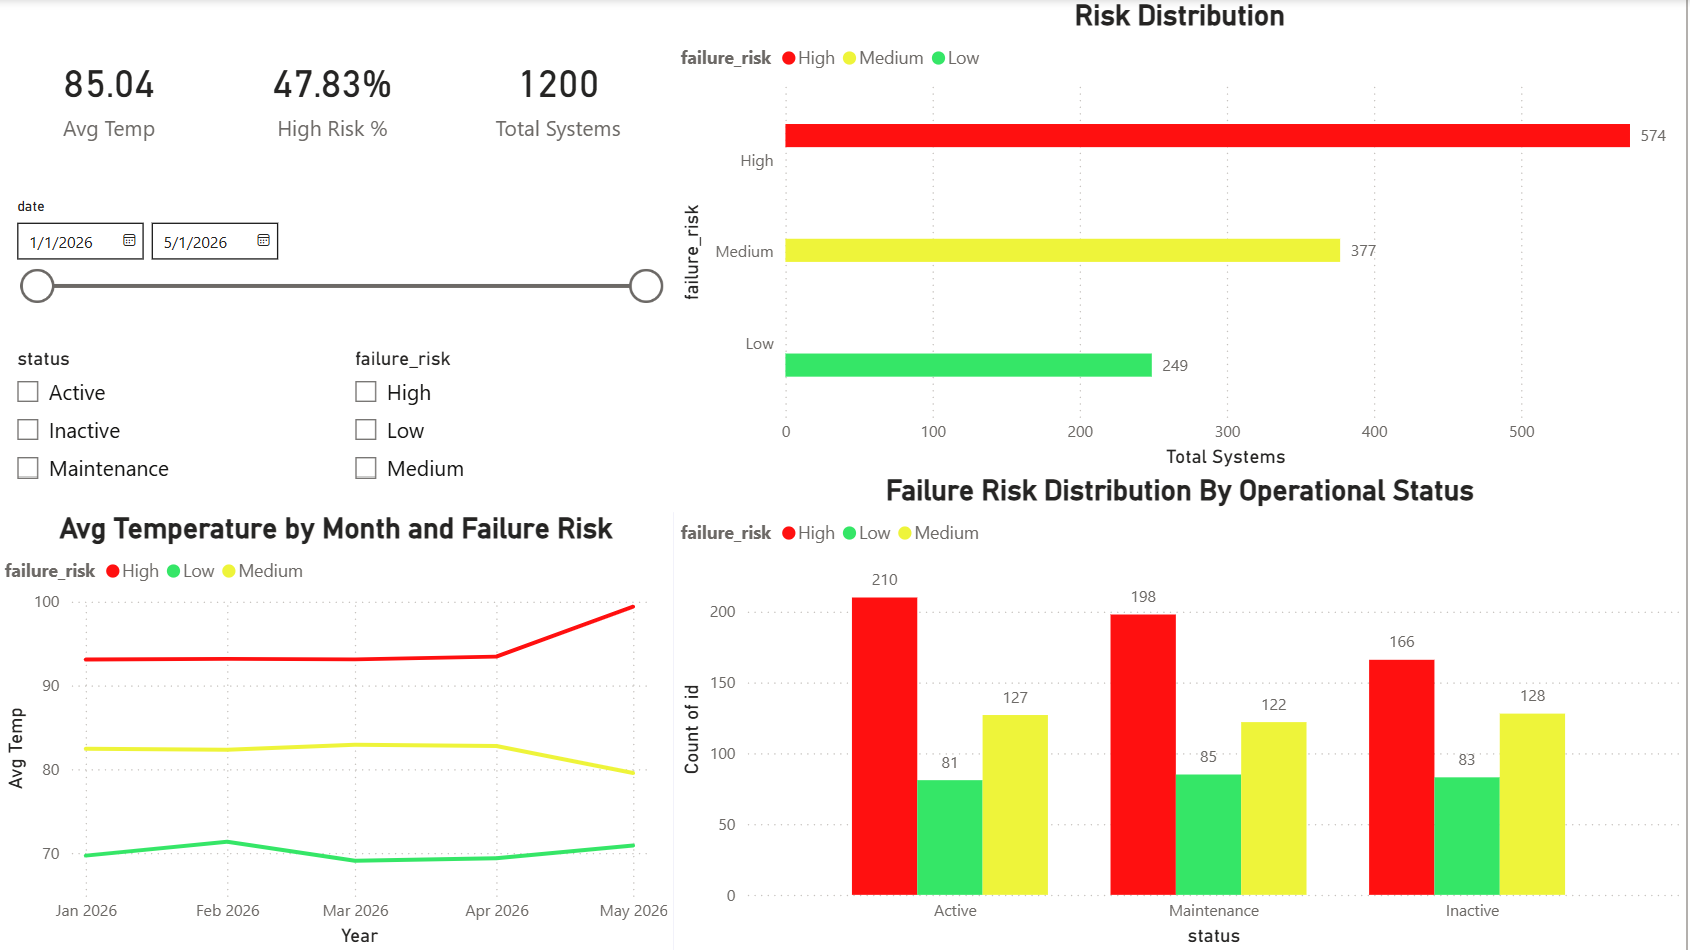

Layout of this report page (visuals, bound fields, positions):
{"tool":"powerbi","page":{"name":"Page 1","canvas":[1280,720],"ordinal":0},"visuals":[{"type":"card","fields":{"Values":["system.Total Systems"]},"box":[337,0,176.1,145.8],"z":0},{"type":"card","fields":{"Values":["system.high_risk_percentage"]},"box":[168.5,0,170.4,145.8],"z":1000},{"type":"card","fields":{"Values":["system.avg_temp"]},"box":[0,0,168.5,145.8],"z":2000},{"type":"clusteredBarChart","title":"Risk Distribution","fields":{"Category":["system.failure_risk"],"Series":["system.failure_risk"],"Y":["system.Total Systems"]},"box":[512.6,0,767.4,359.4],"z":3000},{"type":"lineChart","title":"Avg Temperature by Month and Failure Risk","fields":{"Series":["system.failure_risk"],"Category":["system.date.Variation.Date Hierarchy.Year","system.date.Variation.Date Hierarchy.Month"],"Y":["system.Avg Temp"]},"box":[0,388.2,512.6,333.6],"z":4000},{"type":"clusteredColumnChart","title":"Failure Risk Distribution By Operational Status","fields":{"Y":["CountNonNull(system.id)"],"Category":["system.status"],"Series":["system.failure_risk"]},"box":[512.6,359.4,767.4,362.5],"z":5000},{"type":"slicer","fields":{"Values":["system.status"]},"box":[1.5,259.3,256.3,128.9],"z":6000},{"type":"slicer","fields":{"Values":["system.failure_risk"]},"box":[257.8,259.3,257.8,128.9],"z":7000},{"type":"slicer","fields":{"Values":["system.date"]},"box":[1.9,145.8,511.2,113.6],"z":8000}]}

Visuals, with their boxes in screenshot pixels (x1, y1, x2, y2), scaled from the page's 1280x720 canvas onto the 1690x950 screenshot:
card - system.Total Systems: <region>445, 0, 677, 192</region>
card - system.high_risk_percentage: <region>222, 0, 447, 192</region>
card - system.avg_temp: <region>0, 0, 222, 192</region>
"Risk Distribution" clusteredBarChart: <region>677, 0, 1689, 474</region>
"Avg Temperature by Month and Failure Risk" lineChart: <region>0, 512, 677, 949</region>
"Failure Risk Distribution By Operational Status" clusteredColumnChart: <region>677, 474, 1689, 949</region>
slicer - system.status: <region>2, 342, 340, 512</region>
slicer - system.failure_risk: <region>340, 342, 681, 512</region>
slicer - system.date: <region>3, 192, 677, 342</region>
